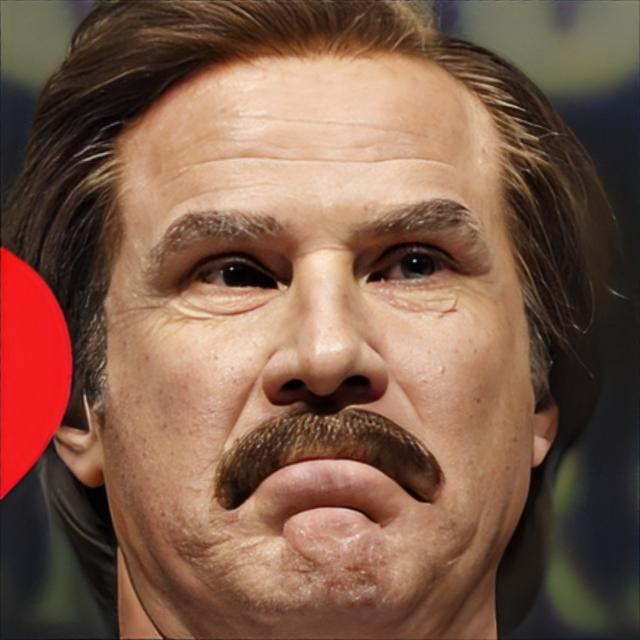disgust: (101, 49, 532, 626)
